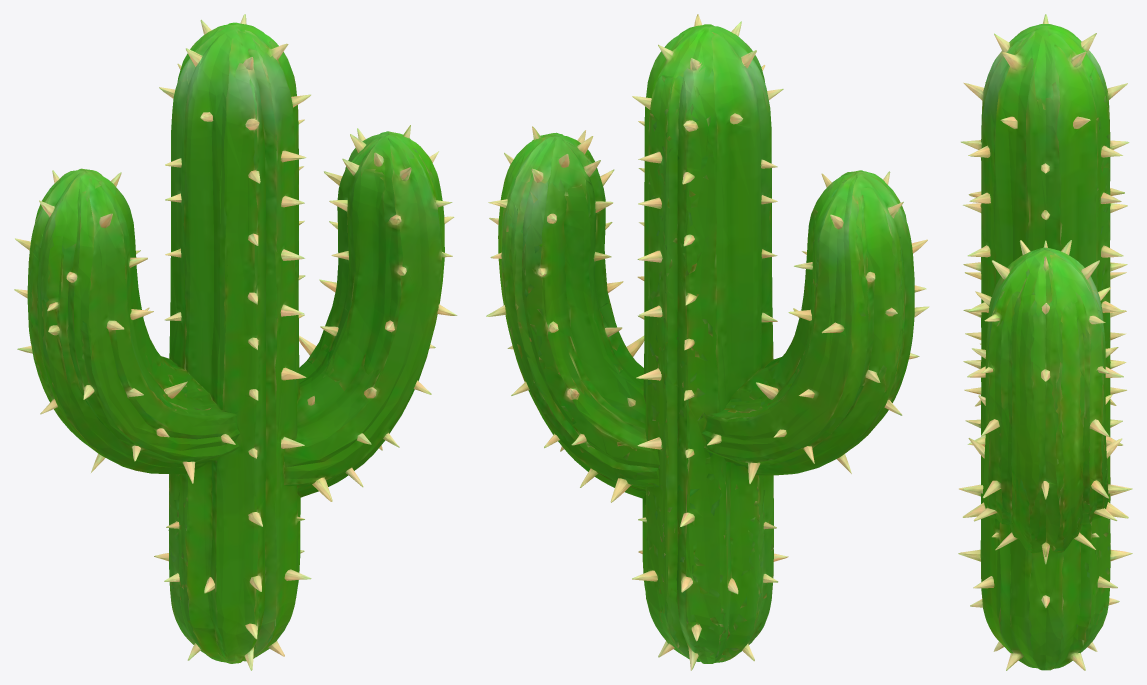
The model's file is cactus.glb.
The picture shows the model from 3 angles, left to right: view 1: azimuth 30°, elevation 25°; view 2: azimuth 150°, elevation 25°; view 3: azimuth 270°, elevation 25°; orthographic projection.
Parts seen in each view (by area): view 1: geometry_0; view 2: geometry_0; view 3: geometry_0.
Part boxes in pixels (bbox=[...]): geometry_0: bbox=[14, 14, 457, 670]; geometry_0: bbox=[486, 14, 929, 670]; geometry_0: bbox=[958, 14, 1132, 670].
Bounding box in the file's own units: 0.7021 × 1 × 0.248.
Materials: 1 (1 with a texture image).
